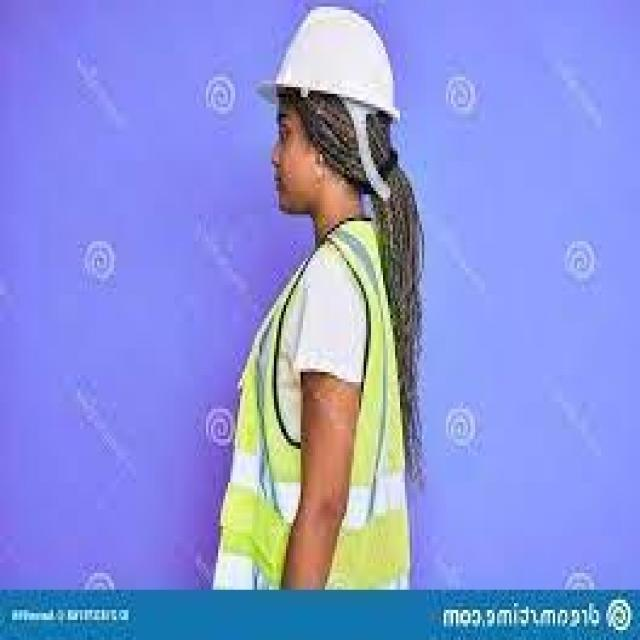Reflective-Jacket: (211, 214, 424, 590)
Safety-Helmet: (254, 3, 405, 134)
